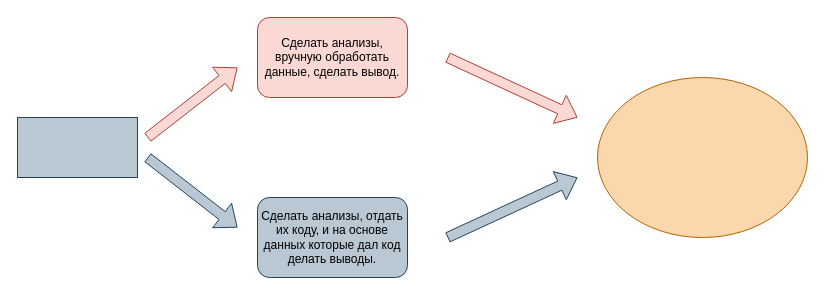
Image size: 825x295. Some labels were removed from this diagram. Each missing label, with the centre of its shape:
"Врачу сообщают признаки болезни." belongs at point (77, 147).
"Поставить диагноз, сообщить о нем пациенту." belongs at point (702, 157).
